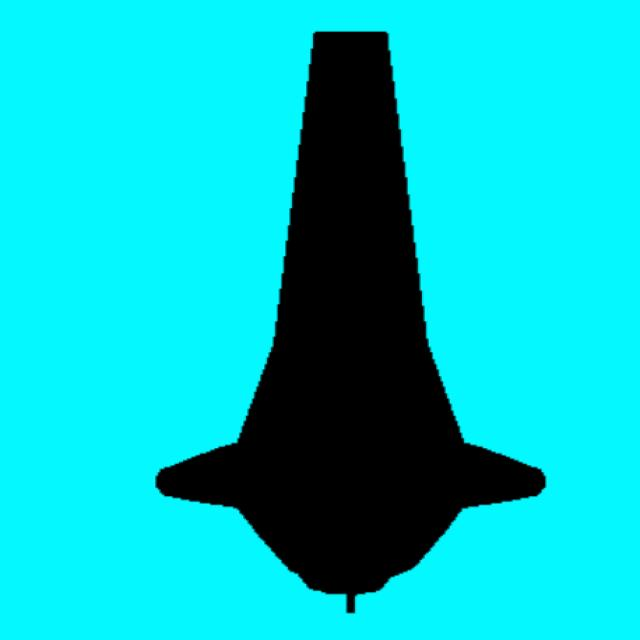BlackBuoy: (156, 32, 544, 612)
